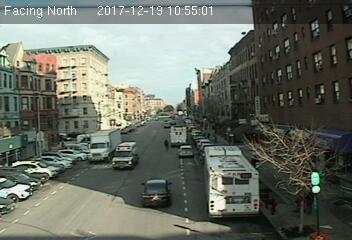bus: (202, 145, 261, 222)
car: (141, 176, 172, 208), (177, 145, 193, 157)
truck: (87, 128, 120, 163), (111, 143, 137, 170), (170, 125, 188, 146)
